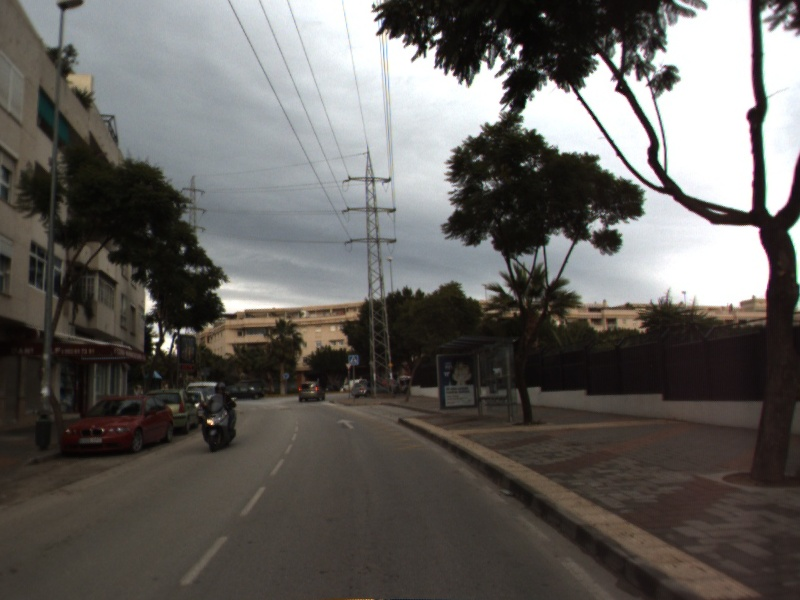STRAIGHT: (334, 417, 357, 431)
